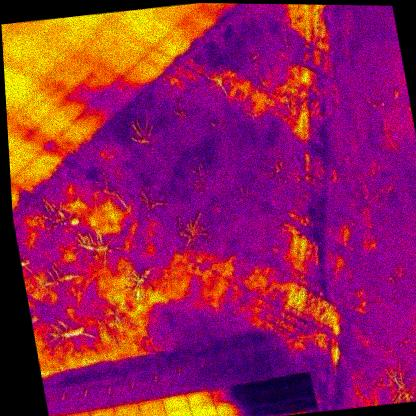Hotspot: (141, 410, 168, 416)
Normal: (185, 389, 214, 406), (137, 398, 164, 414), (161, 394, 188, 410), (189, 402, 218, 416), (114, 402, 141, 416), (164, 406, 193, 416), (89, 406, 118, 416), (66, 410, 94, 416)
Shadow: (290, 394, 318, 412), (284, 370, 312, 387), (213, 397, 241, 413), (238, 393, 266, 409), (263, 388, 291, 404), (287, 383, 315, 399), (210, 386, 239, 401), (235, 380, 262, 396), (266, 400, 293, 416), (260, 376, 287, 391), (242, 405, 269, 416)
